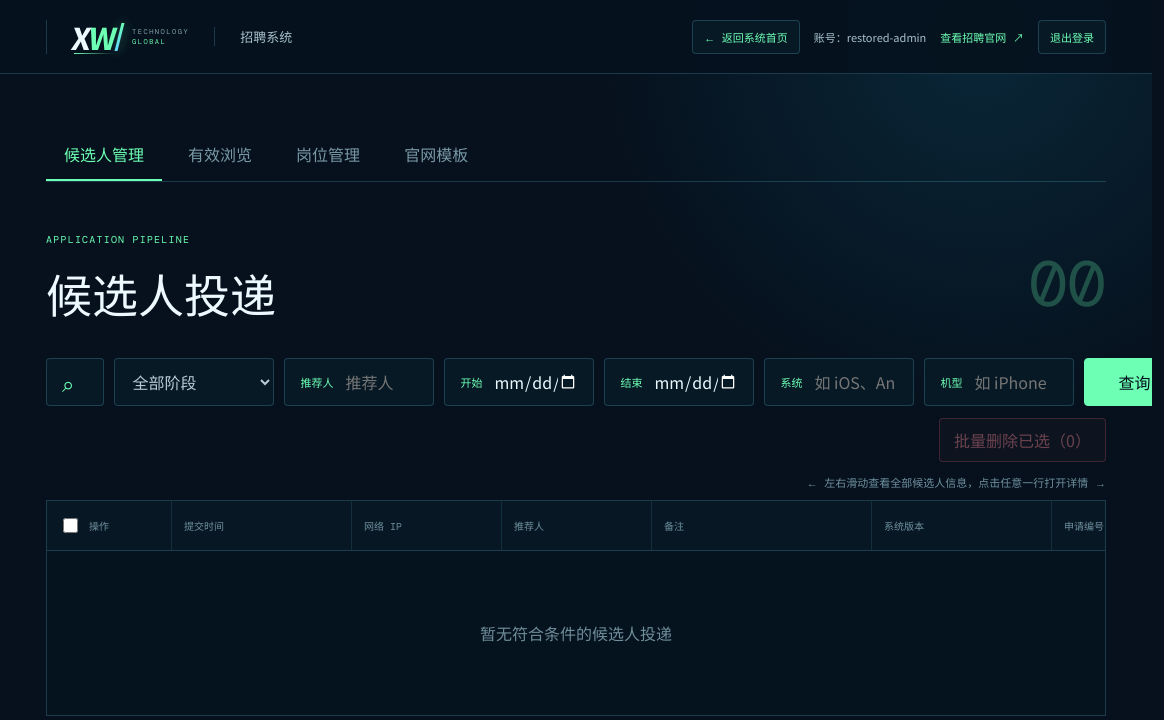
Test: AdminView subsystem shell › keeps a failed logout authoritative after the current jobs request resolves
The image size is (1164, 720).
Step 1. Click the button "岗位管理" → (328, 155), box x1=278 y1=129 x2=378 y2=181
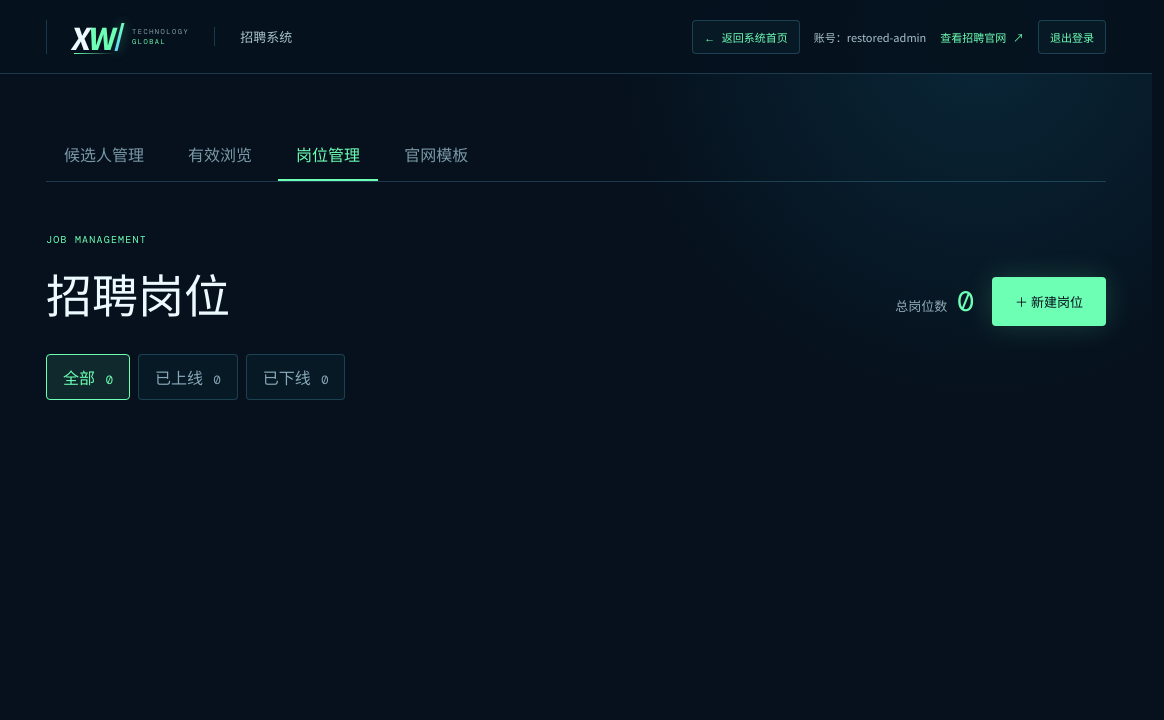
Step 2. Click the button with test id "logout" → (1072, 36), box x1=1038 y1=20 x2=1106 y2=54
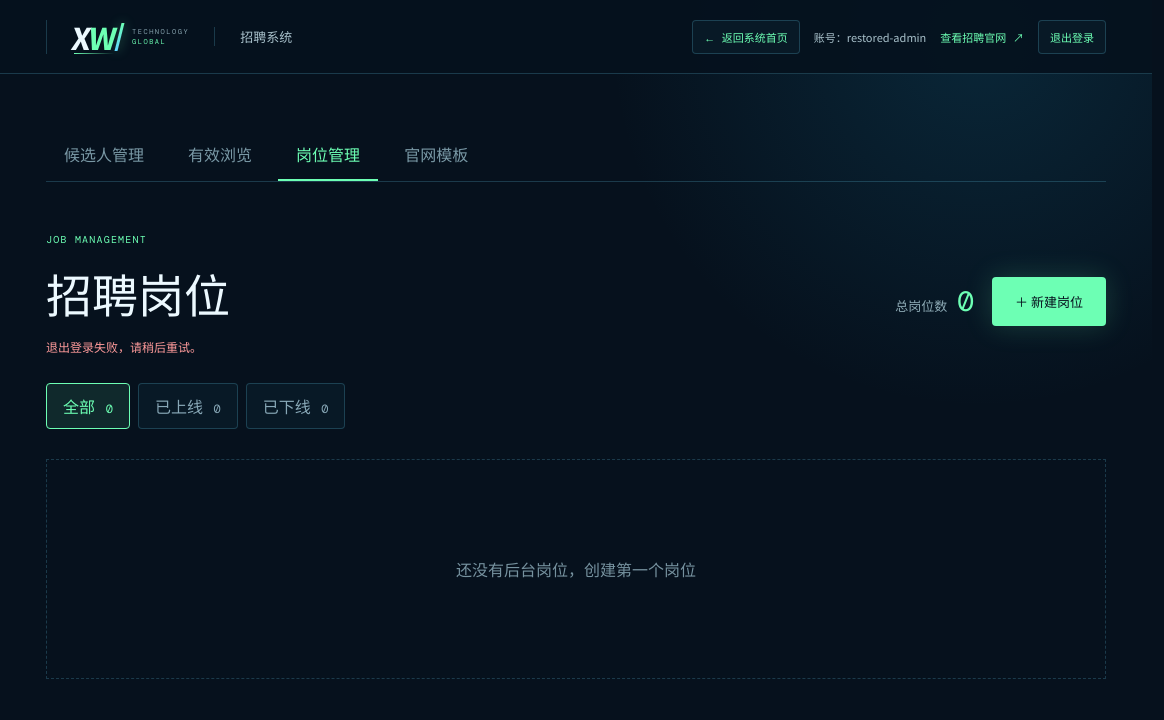
Result: the text "退出登录失败，请稍后重试。" is shown at x1=46 y1=338 x2=202 y2=355
